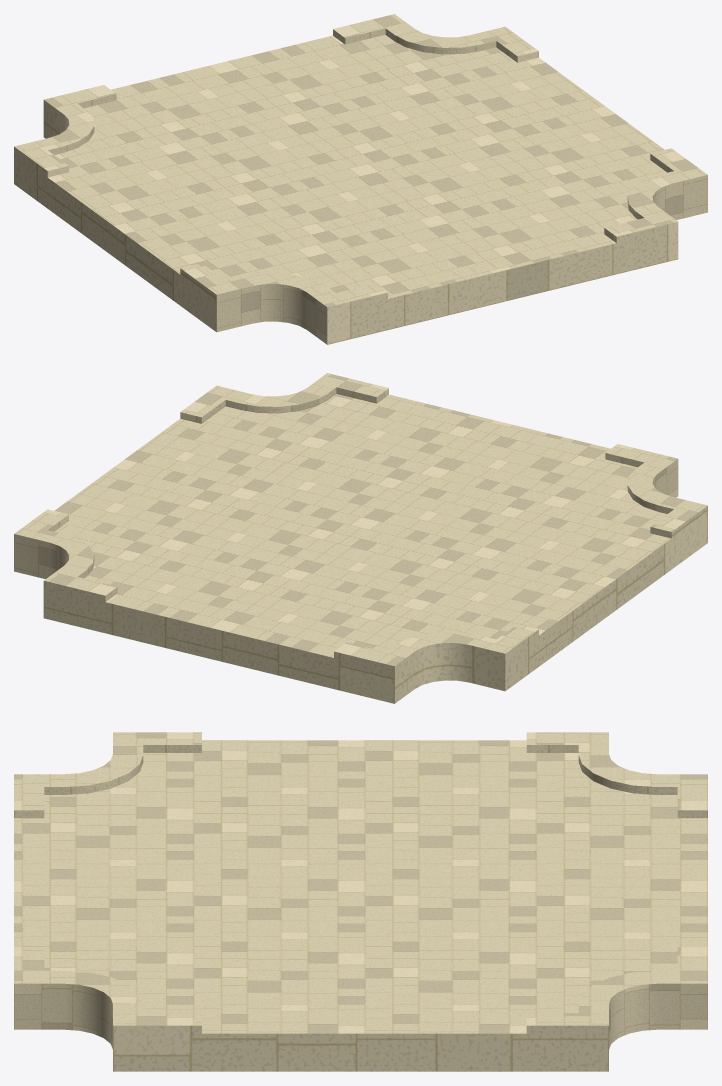
File: Road_+.gltf
The picture shows the model from 3 angles, top to bottom: view 1: azimuth 30°, elevation 25°; view 2: azimuth 150°, elevation 25°; view 3: azimuth 270°, elevation 25°; orthographic projection. The views are drawn at different scales.
Visible parts, largest first — view 1: Cube.014; view 2: Cube.014; view 3: Cube.014.
Part boxes in pixels (x1,y1,x2,y2): Cube.014: (14,14,707,344); Cube.014: (14,373,707,703); Cube.014: (14,732,707,1071).
Bounding box in the file's own units: 14 × 1.02 × 14.
Materials: 1 (1 with a texture image).
